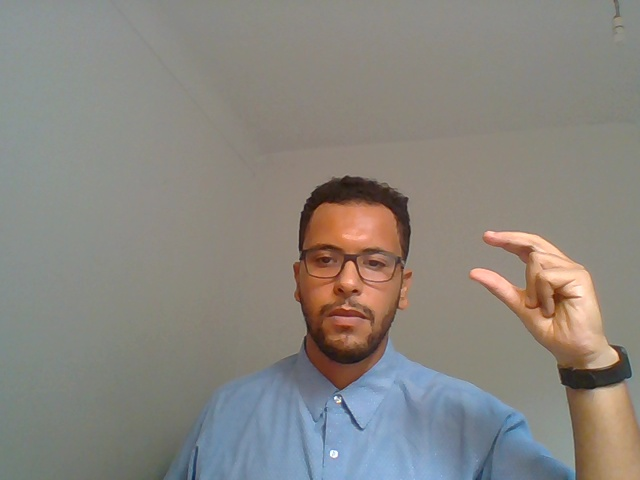no: (457, 204, 616, 437)
